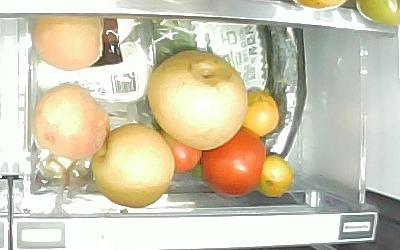peach: (30, 82, 111, 161), (31, 13, 105, 71)
pear: (145, 47, 248, 152), (90, 122, 176, 208)
tangerine: (236, 90, 280, 137), (258, 152, 293, 199)
tomato: (200, 126, 268, 197), (161, 134, 204, 176)
